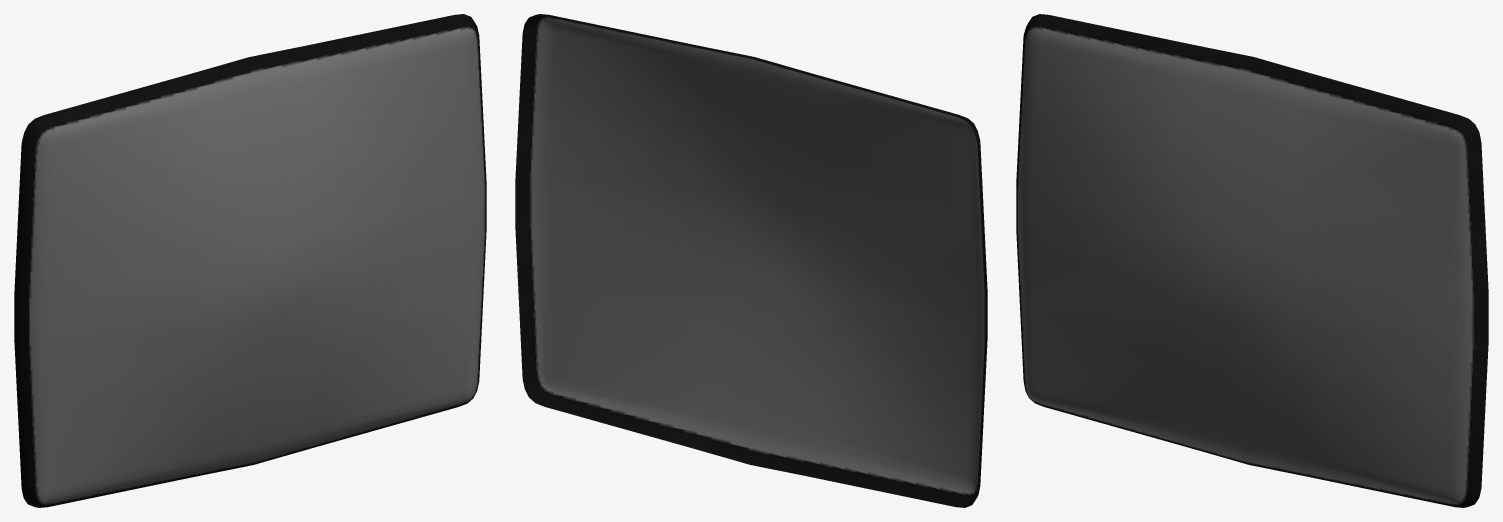
File: screen.glb
The picture shows the model from 3 angles, left to right: view 1: azimuth 30°, elevation 25°; view 2: azimuth 150°, elevation 25°; view 3: azimuth 330°, elevation 25°; orthographic projection.
Visible parts, largest first — view 1: television_rubin_obj; view 2: television_rubin_obj; view 3: television_rubin_obj.
Boxes of the visible parts, x1,y1,x2,y2 form: television_rubin_obj: (14,14,486,507); television_rubin_obj: (515,14,987,507); television_rubin_obj: (1016,14,1488,507).
Bounding box in the file's own units: 78.59 × 64.99 × 9.16.
1 material, 1 textured.
